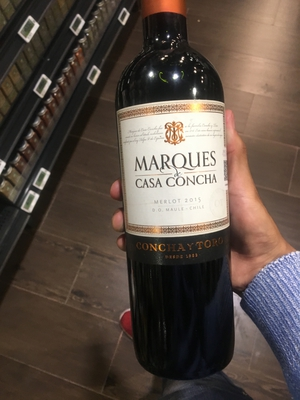marques de casa concha merlot: (92, 26, 260, 346)
